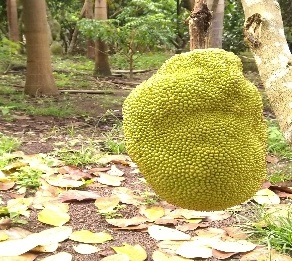Mit: (122, 45, 265, 204)
